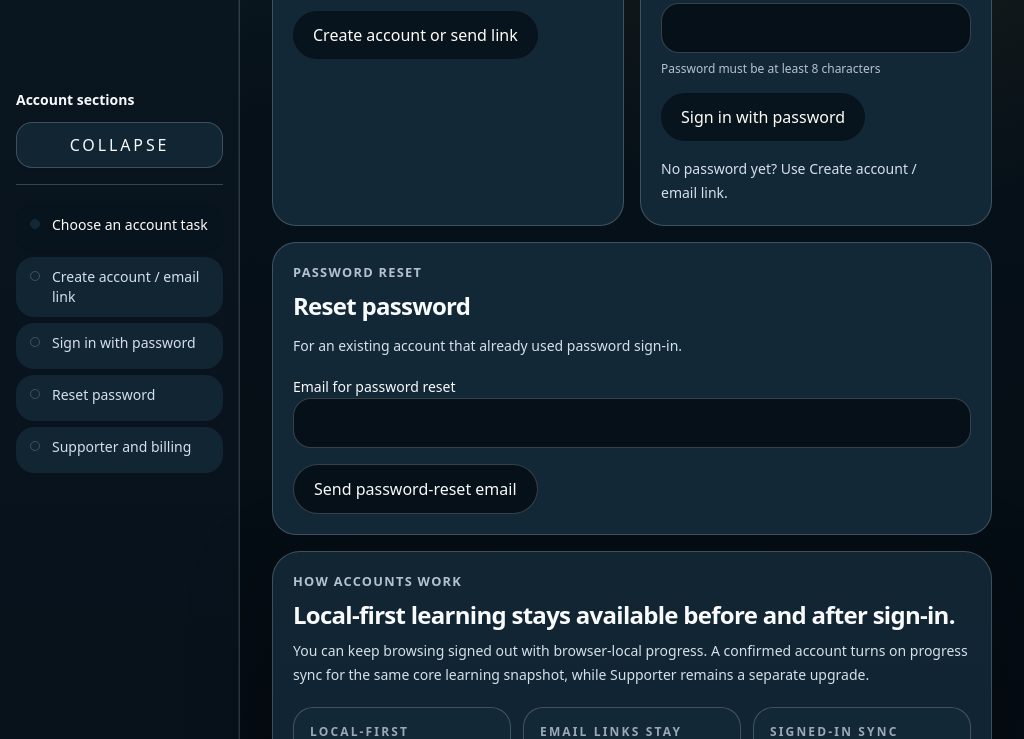
Test: AccountPagePanel › shows a clear forgot-password success state
(page scrolled)
Step 1. Type "student@example.com" into the field labelled "Email for password reset" → (632, 423), box [293,398,971,448]
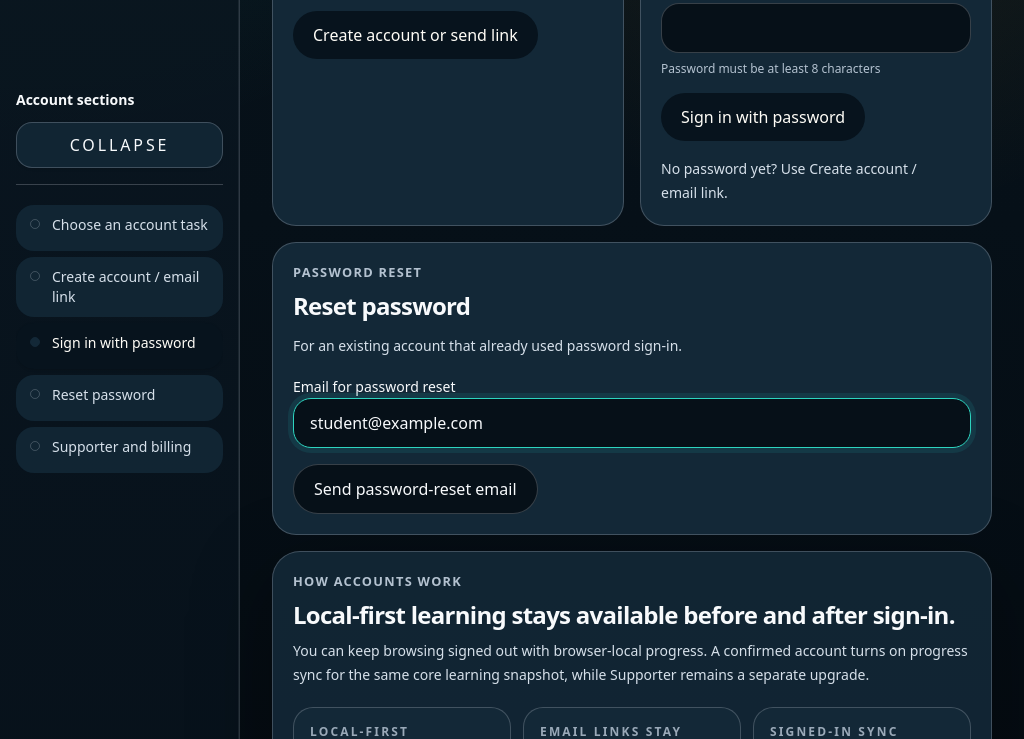
Step 2. Click the button "Send password-reset email" → (415, 489), box [293,464,538,514]
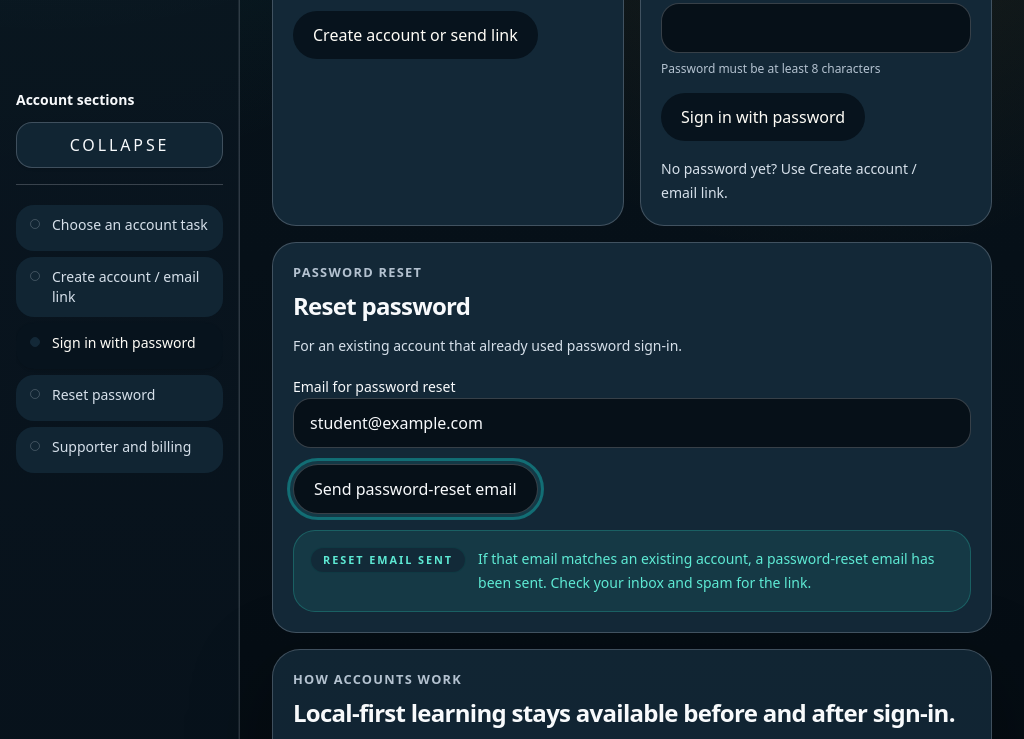
Result: the text "check your inbox and spam" is shown at [478,549,934,592]
